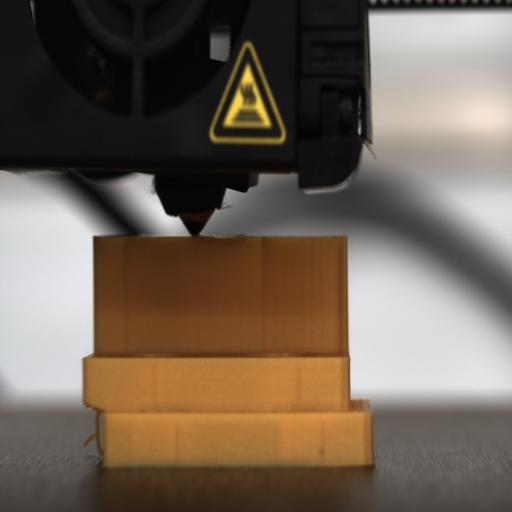layer_shift: (84, 392, 374, 422)
